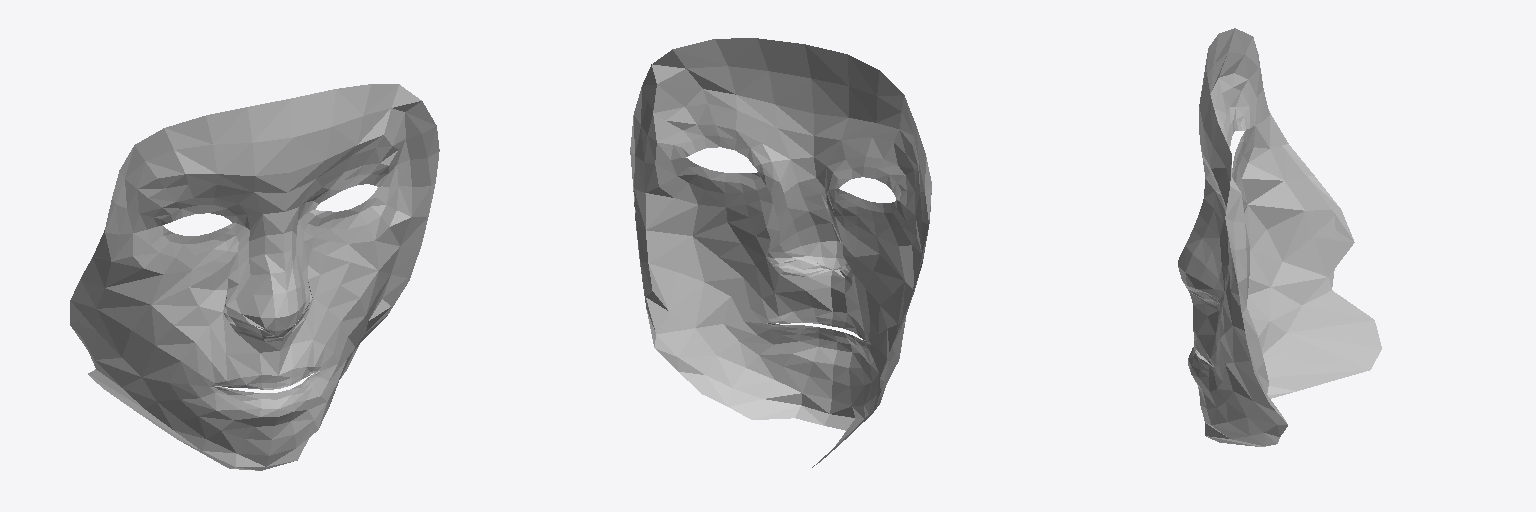
Rendered from in-blonde.obj.
3 views of the same model, side by side, from view 1: azimuth 30°, elevation 25°; view 2: azimuth 150°, elevation 25°; view 3: azimuth 270°, elevation 25° (orthographic).
Parts seen in each view (by area): view 1: MyMesh; view 2: MyMesh; view 3: MyMesh.
Boxes of the visible parts, <box> form: MyMesh: <box>70,84,439,470</box>; MyMesh: <box>630,38,931,467</box>; MyMesh: <box>1178,28,1381,446</box>.
Size of the model in its own units: 0.312 by 0.3489 by 0.1738.